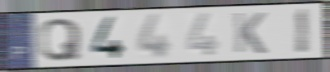4: (136, 12, 175, 61), (89, 15, 127, 62), (185, 11, 220, 58)
I: (296, 7, 311, 56)
K: (233, 11, 268, 55)
Q: (38, 17, 82, 63)
